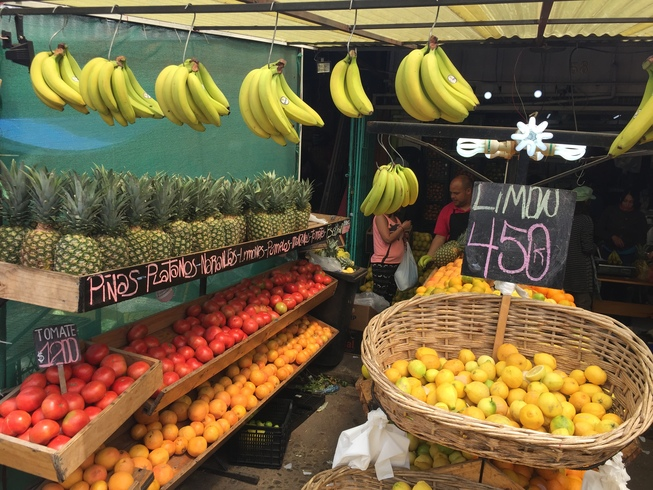precio: (466, 178, 576, 295), (30, 321, 87, 368)
